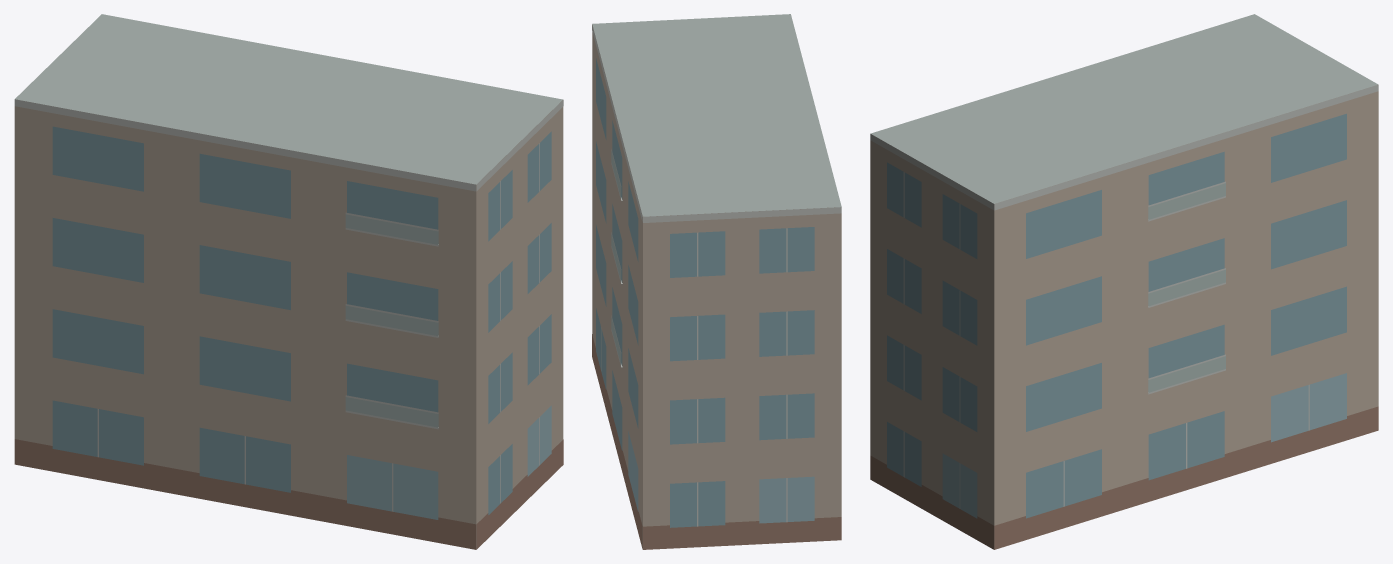
The model's file is survey-upis-32824965.glb.
3 views of the same model, side by side, from view 1: azimuth 30°, elevation 25°; view 2: azimuth 150°, elevation 25°; view 3: azimuth 270°, elevation 25° (orthographic). The views are drawn at different scales.
Parts seen in each view (by area): view 1: survey-upis-32824965.tmp; view 2: survey-upis-32824965.tmp; view 3: survey-upis-32824965.tmp.
Boxes of the visible parts, x1,y1,x2,y2 form: survey-upis-32824965.tmp: (14, 14, 563, 549); survey-upis-32824965.tmp: (592, 14, 841, 549); survey-upis-32824965.tmp: (870, 14, 1378, 549).
Size of the model in its own units: 15.09 by 12.8 by 17.06.
